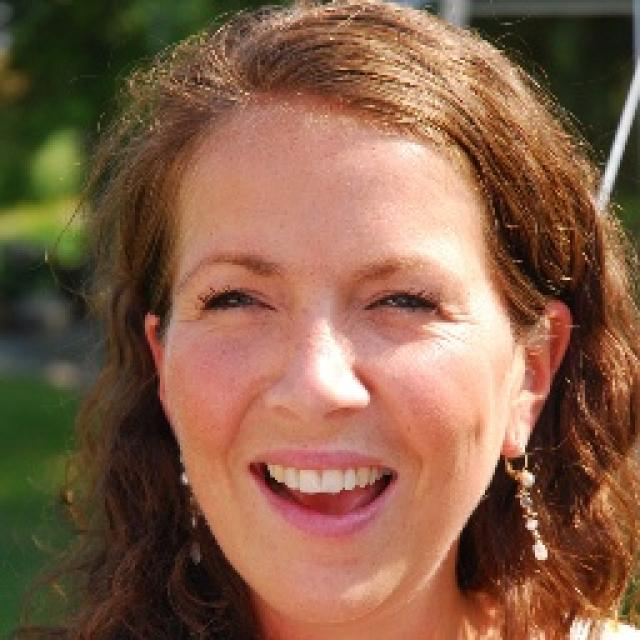earlobe: (499, 300, 569, 460)
